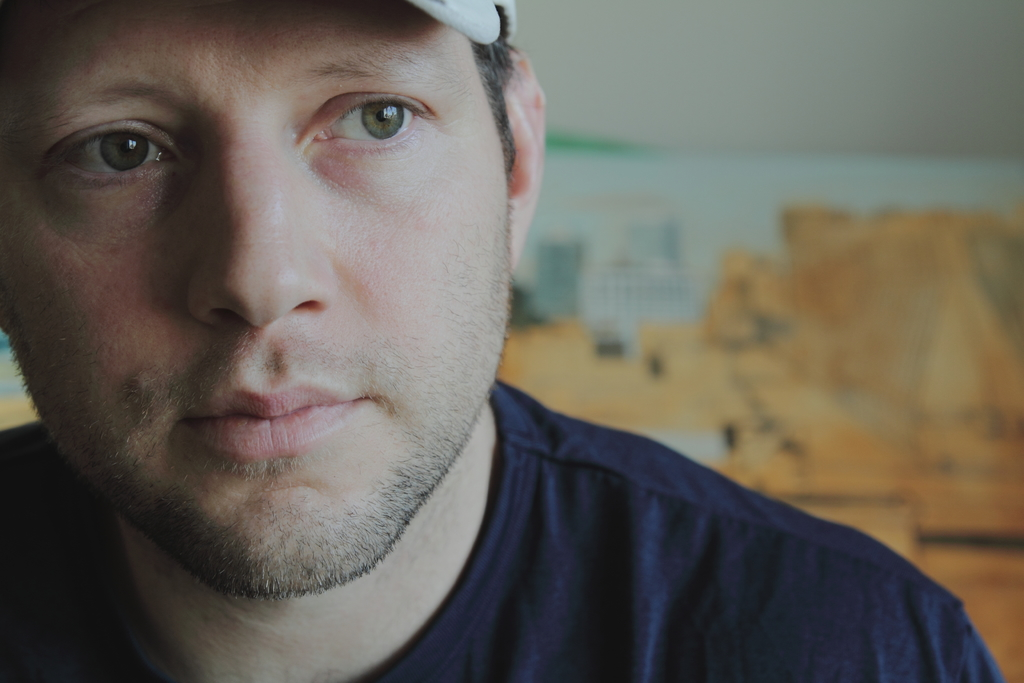Human-face: (0, 0, 513, 595)
